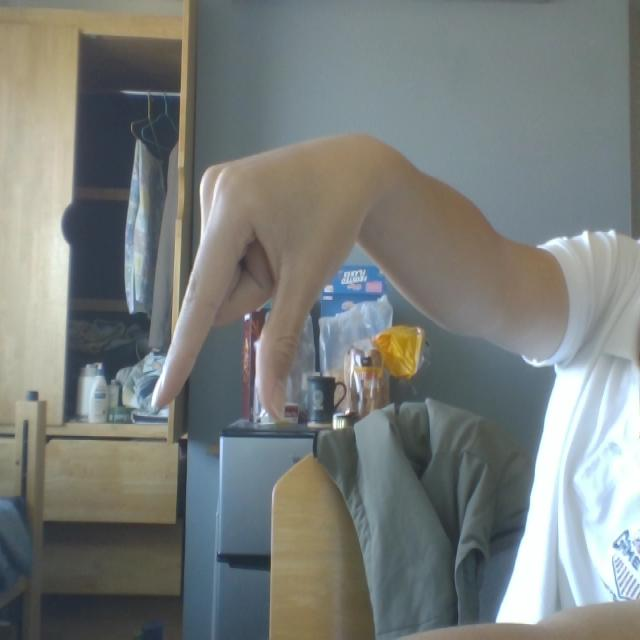Q: (148, 91, 436, 457)
